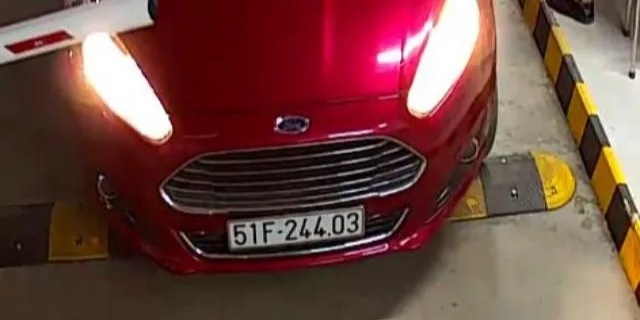bien_so: (230, 212, 361, 246)
